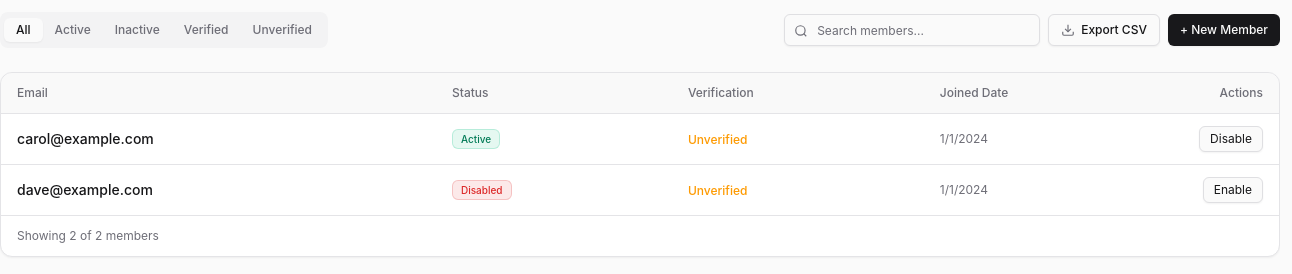
Test: MembersView › filters members to only inactive ones
expect the text "carol@example.com" is shown: met, box [1,113,436,164]
Click the button "Inactive".
click(137, 30)  # box [103,18,172,42]
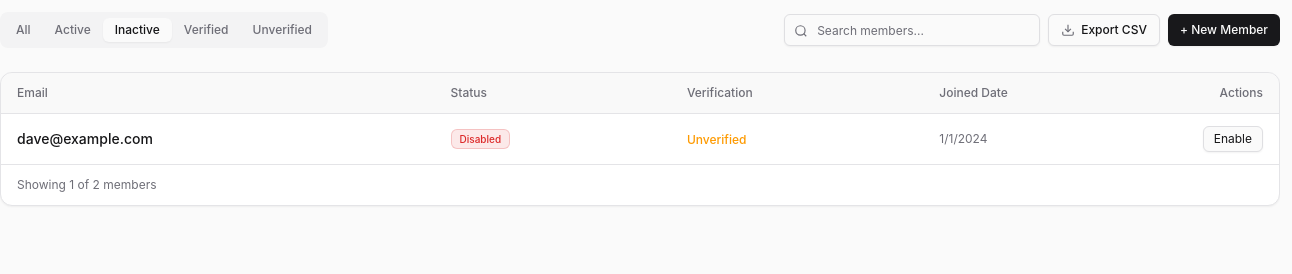
expect the text "dave@example.com" is shown: met, box [1,113,434,164]
expect the text "carol@example.com" is gone: met
